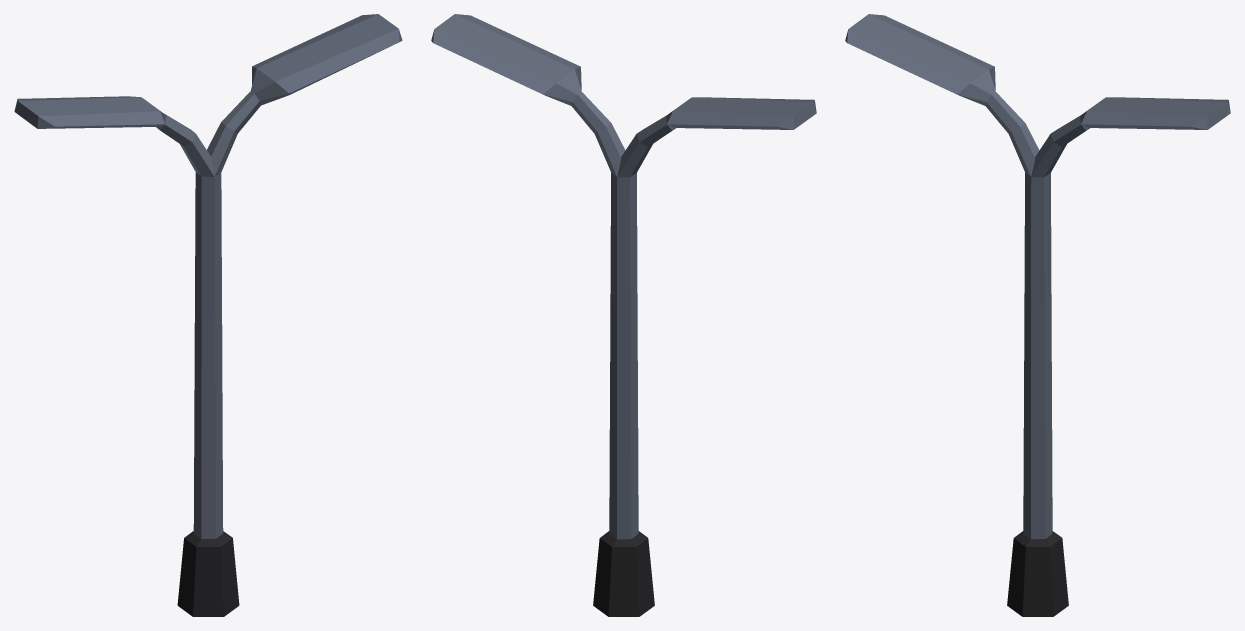
File: Lantern 2 Fractured.fbx
3 renders of one model, left to right at view 1: azimuth 30°, elevation 25°; view 2: azimuth 150°, elevation 25°; view 3: azimuth 330°, elevation 25°, orthographic.
Parts seen in each view (by area): view 1: Lantern_02_Breaking.001, Lantern_02_Breaking; view 2: Lantern_02_Breaking.001, Lantern_02_Breaking; view 3: Lantern_02_Breaking.001, Lantern_02_Breaking.
Boxes of the visible parts, bbox=[...] form: Lantern_02_Breaking.001: bbox=[14, 14, 402, 320]; Lantern_02_Breaking: bbox=[177, 297, 239, 616]; Lantern_02_Breaking.001: bbox=[431, 14, 816, 321]; Lantern_02_Breaking: bbox=[593, 297, 654, 616]; Lantern_02_Breaking.001: bbox=[845, 14, 1230, 315]; Lantern_02_Breaking: bbox=[1007, 297, 1068, 616].
Size of the model in its own units: 146 by 207 by 26.09.
